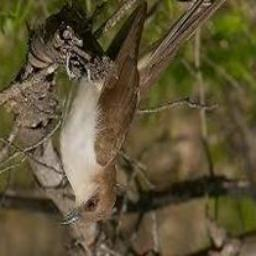Cuckoo: (56, 2, 150, 226)
